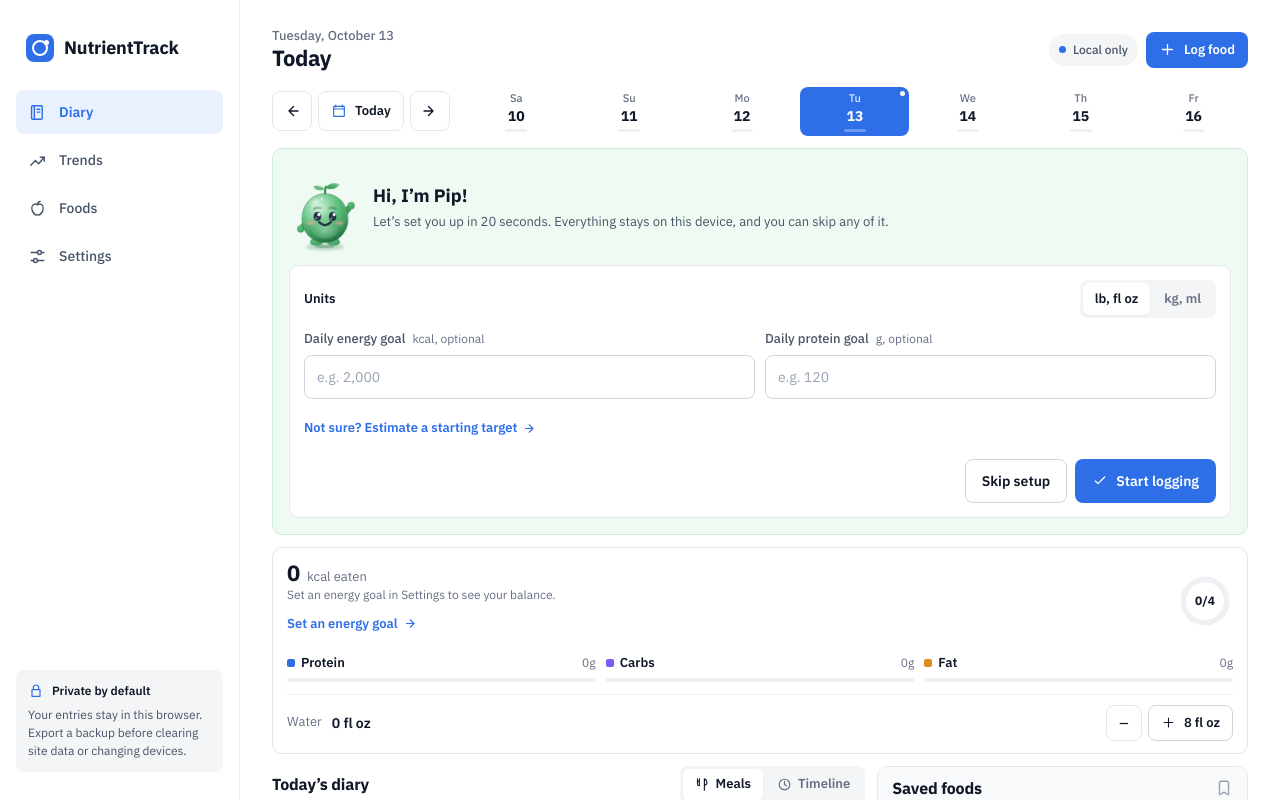
Test: sidebar logo as home button › returns to the diary from Trends
The width and height of the screenshot is (1280, 800).
Click the button "Trends" at (120, 160), box [16, 138, 223, 182]
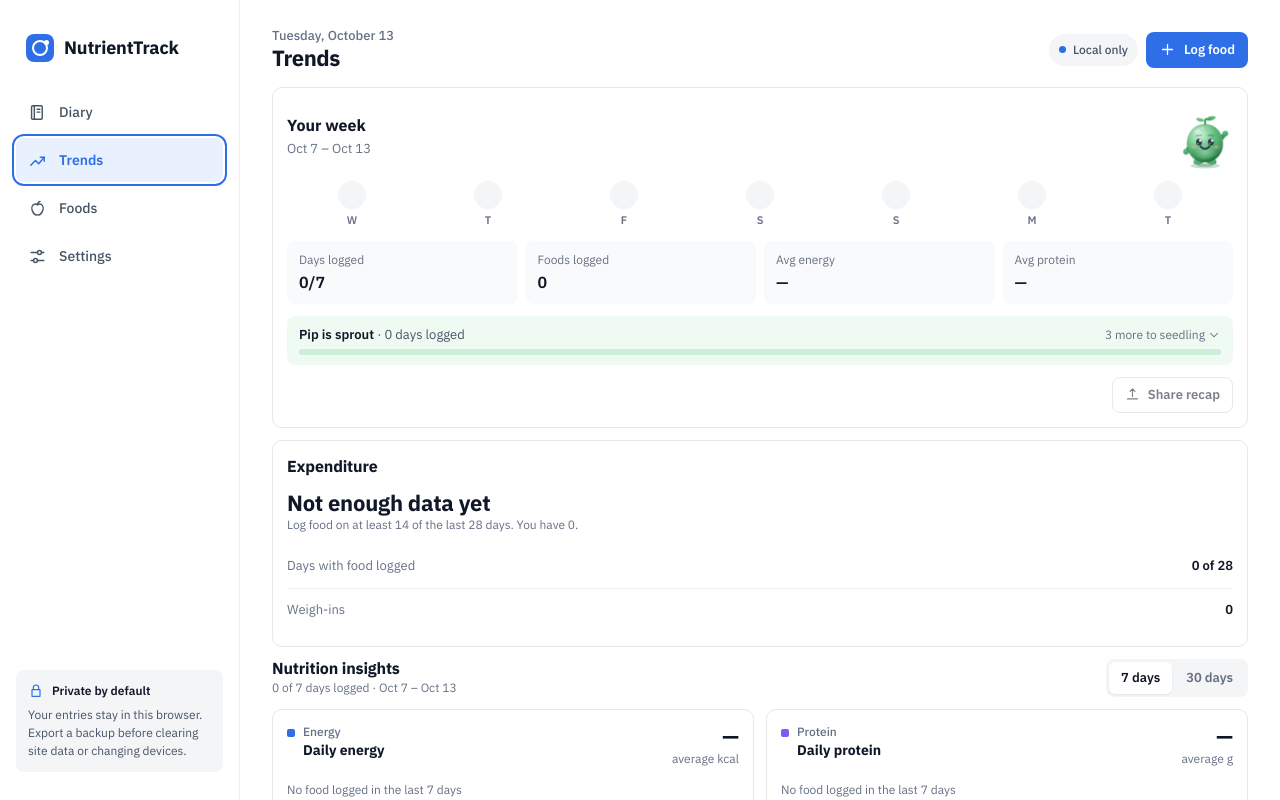
Result: the heading "Expenditure" is shown at [287, 455, 378, 478]
Click the button with aria-label "NutrientTrack home: today's diary" at (120, 57), box [16, 28, 223, 86]
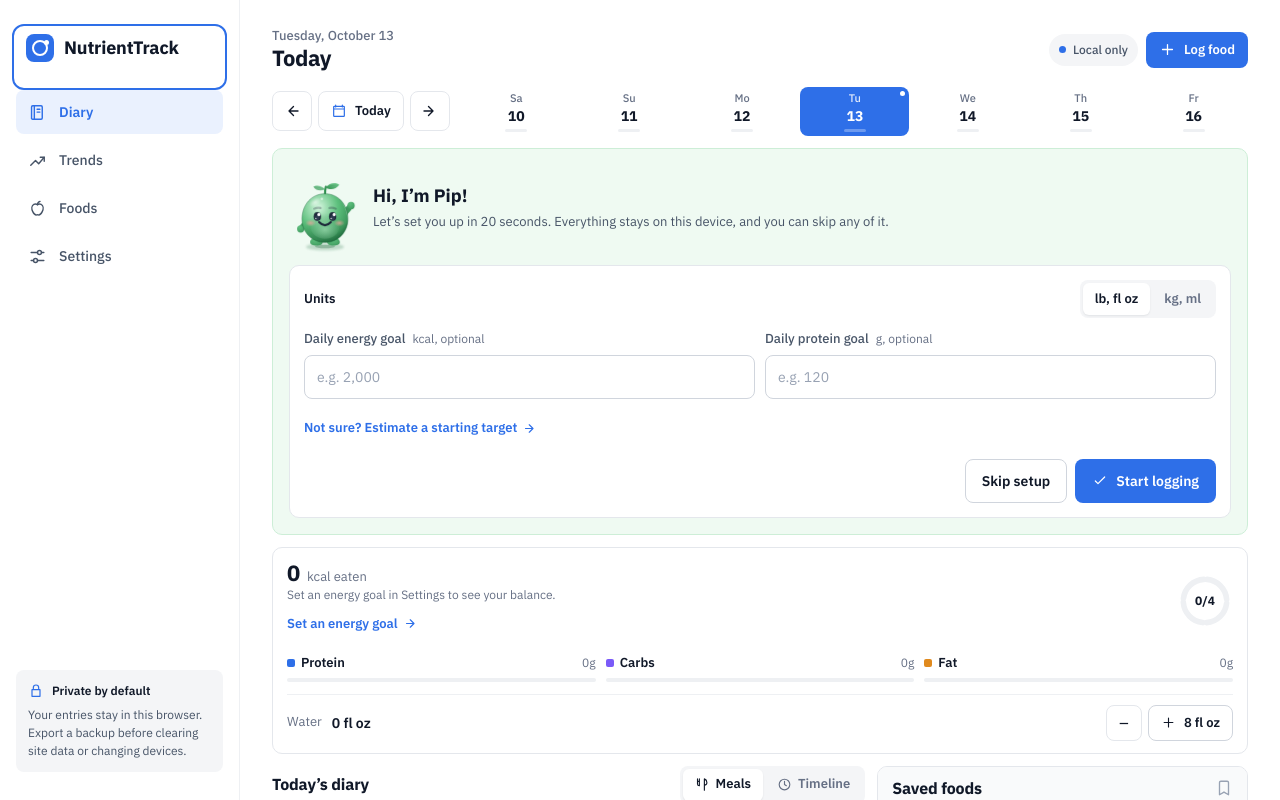
Result: the heading "Today’s diary" is shown at [272, 773, 369, 796]
Result: the heading "Expenditure" is gone
